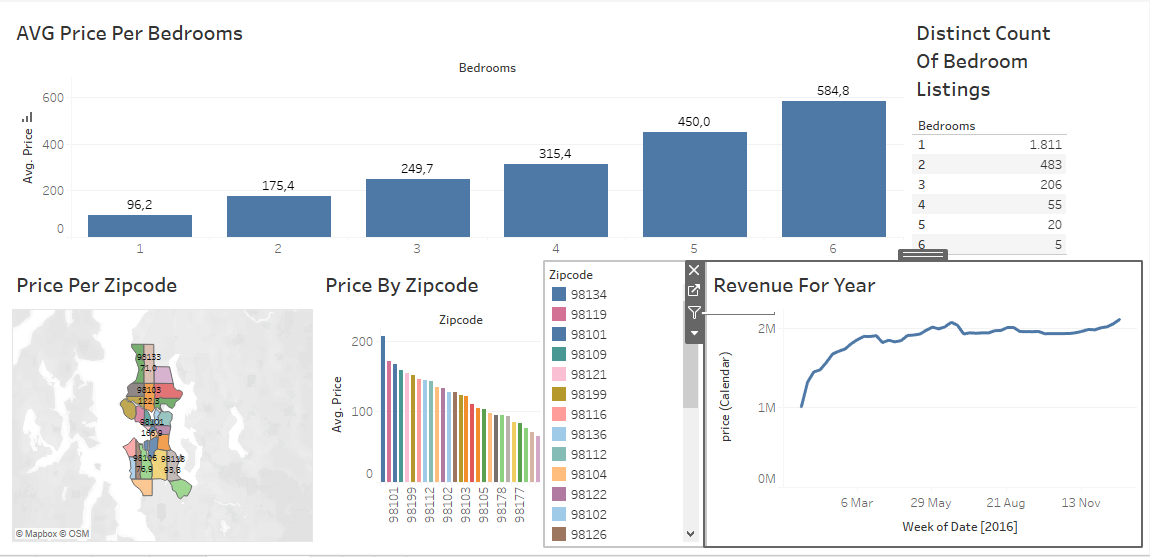

What the dashboard file says about the page in this screenshot:
{"tool":"tableau","page":{"name":"Dashboard 1","canvas":[1000,1000],"units":"permille","ordinal":0},"visuals":[{"type":"worksheet","title":"Sheet 4","mark":"Automatic","rows":["price"],"cols":["bedrooms"],"box":[7,14.5,783.3,456.5]},{"type":"worksheet","title":"Sheet 5","mark":"Automatic","rows":["bedrooms"],"box":[790.2,14.5,202.8,456.5]},{"type":"worksheet","title":"Sheet 2","mark":"Multipolygon","box":[7,471,268.6,514.5]},{"type":"worksheet","title":"Sheet 1","mark":"Automatic","rows":["price"],"cols":["zipcode"],"box":[275.6,471,198.7,514.5]},{"type":"legend","title":"Sheet 1","param":"[federated.1dmigls0g65yr5130b5of0dqgtbe].[none:zipcode:ok]","box":[474.3,471,139.2,514.5]},{"type":"worksheet","title":"Sheet 3","mark":"Automatic","rows":["price (Calendar)"],"cols":["date"],"box":[613.6,471,379.5,514.5]}]}

Visuals, with their boxes on the dashboard's canvas, which has no fixed pixel size, in thousandths of its width and height (x1, y1, x2, y2). These are canvas units, not pixel positions in the 1150x557 screenshot, which may show the page scaled, cropped or inside an application window:
"Sheet 4" worksheet: 7,14,790,471
"Sheet 5" worksheet: 790,14,993,471
"Sheet 2" worksheet (Multipolygon marks): 7,471,276,986
"Sheet 1" worksheet: 276,471,474,986
"Sheet 1" legend: 474,471,614,986
"Sheet 3" worksheet: 614,471,993,986
